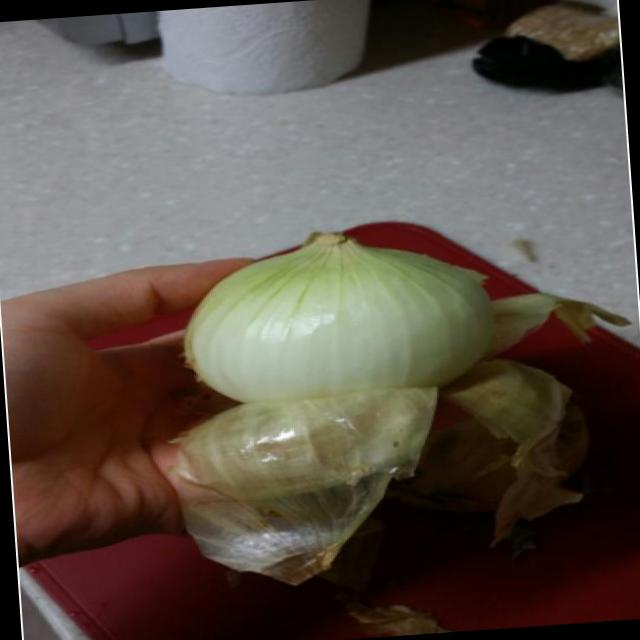Onion: (142, 205, 546, 422)
